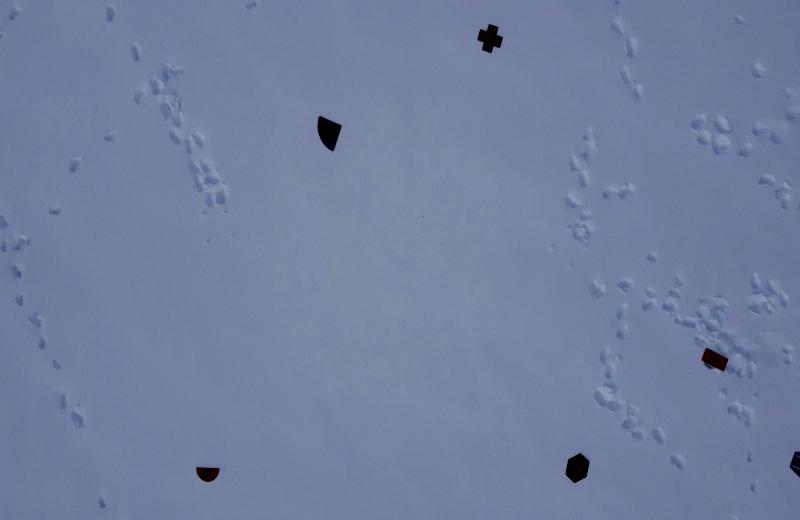Cross: (475, 20, 503, 56)
Hexagon: (564, 449, 595, 484)
Quarter Circle: (313, 109, 345, 157)
Rectangle: (1, 0, 800, 520), (701, 338, 730, 378)
Semi Circle: (193, 460, 220, 489)
